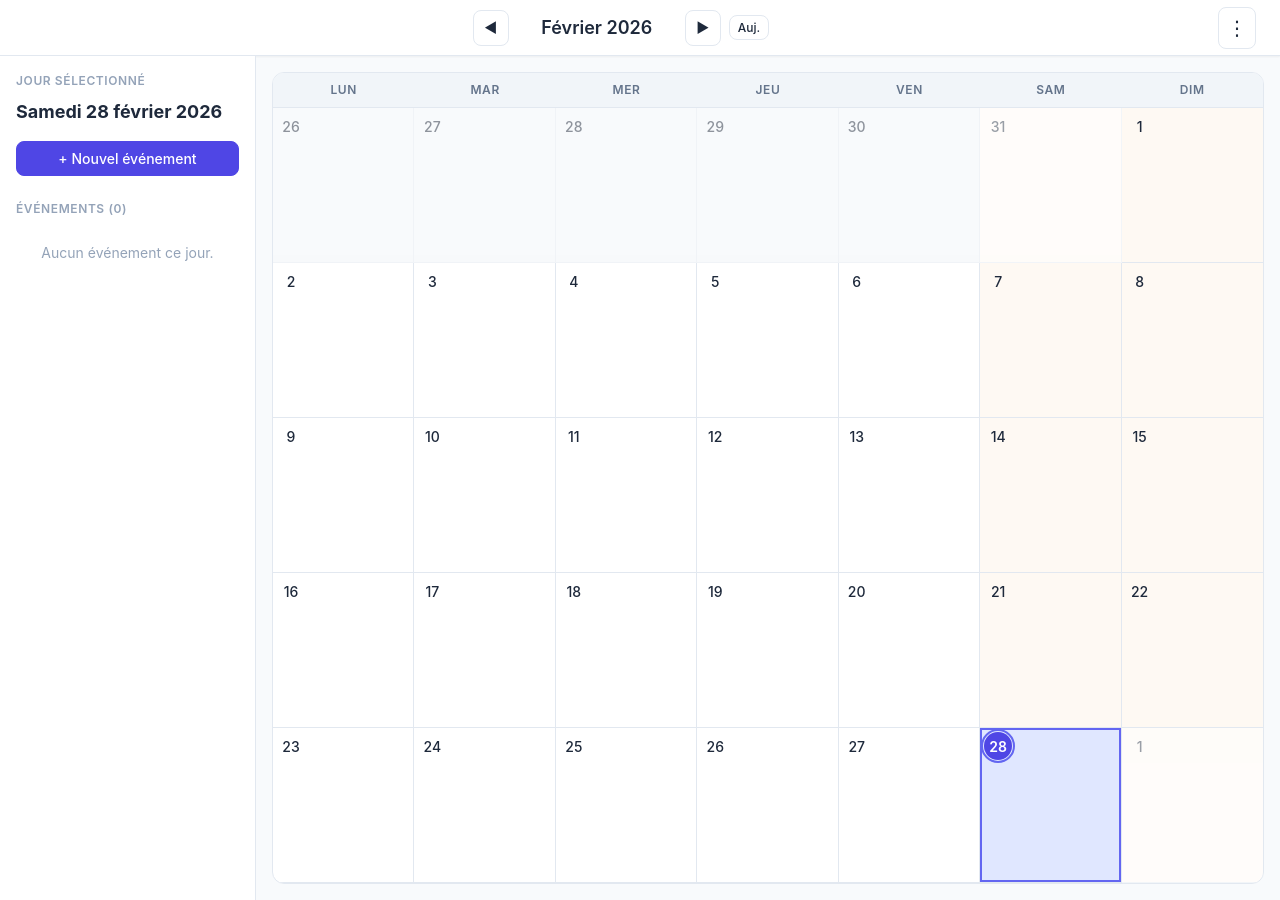
Test: App › can navigate months with prev/next buttons
Step 1. Click the button named "Suivant" → x=703, y=28, box [685, 10, 721, 46]
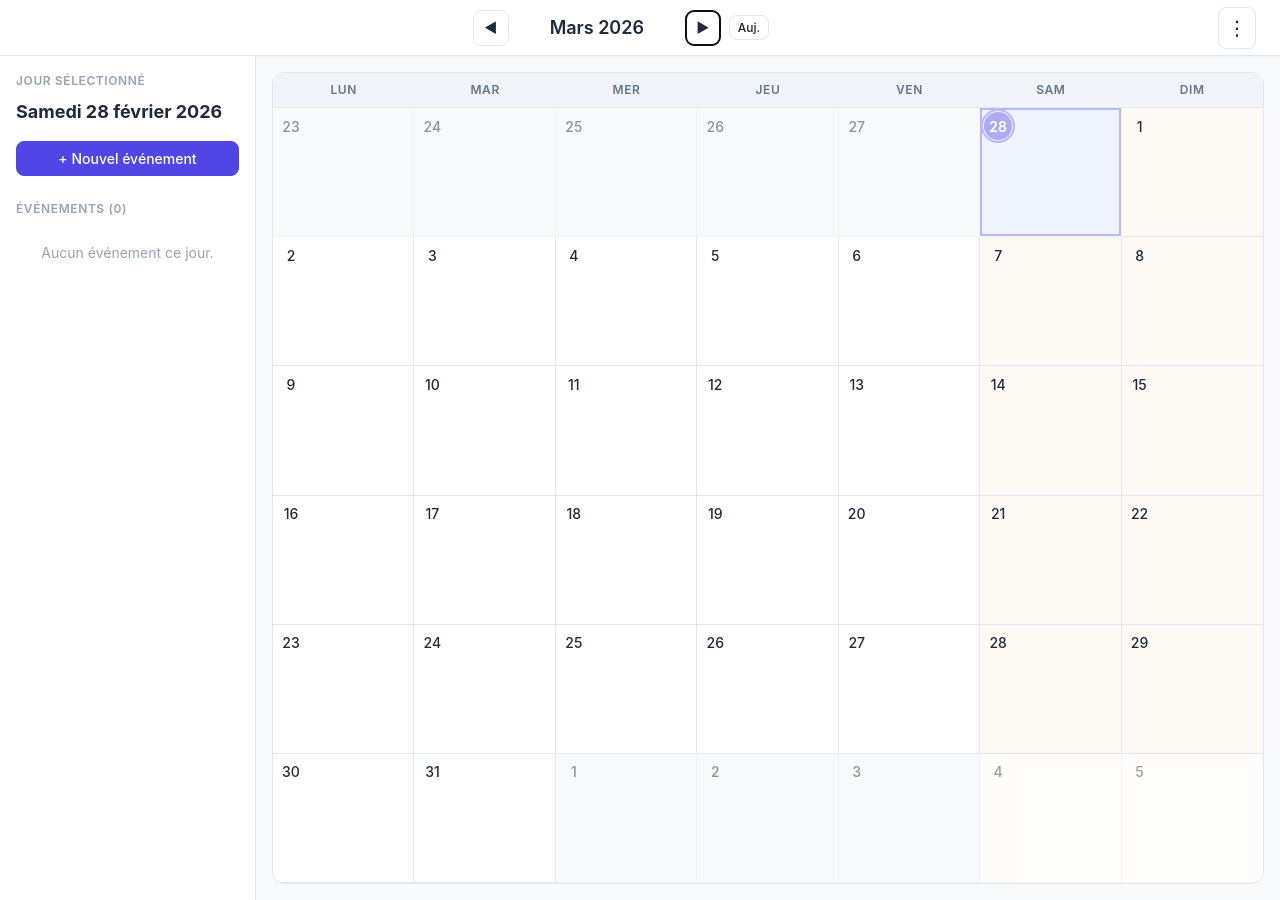
Expected: the text "Février 2026" is gone
